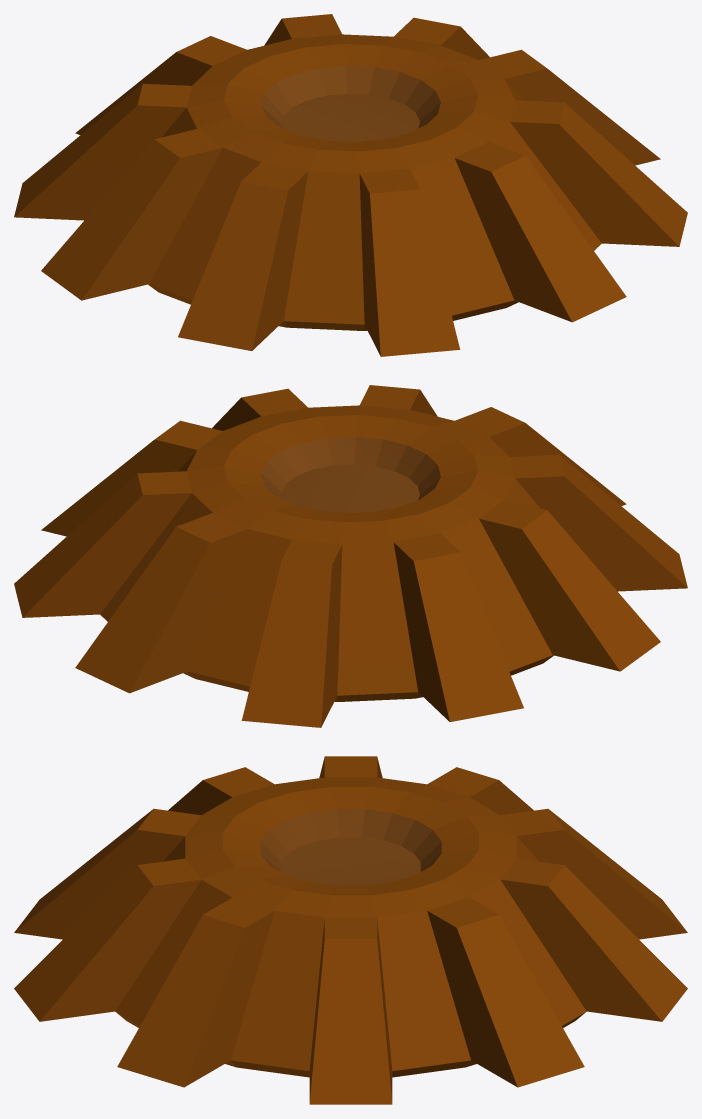
The model's file is Gear Angled 10 Teeth.glb.
3 views of the same model, one above another, from view 1: azimuth 30°, elevation 25°; view 2: azimuth 150°, elevation 25°; view 3: azimuth 270°, elevation 25° (orthographic).
Visible parts, largest first — view 1: GearAngled10Teeth; view 2: GearAngled10Teeth; view 3: GearAngled10Teeth.
Boxes of the visible parts, x1,y1,x2,y2 form: GearAngled10Teeth: [14, 14, 687, 356]; GearAngled10Teeth: [14, 385, 687, 727]; GearAngled10Teeth: [14, 756, 687, 1104].
Size of what is drawn, in the model's own units: 2.49 by 0.5291 by 2.46.
1 material, 1 textured.
